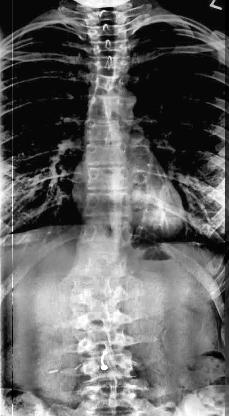Vertebrae: (69, 294, 135, 328), (67, 244, 131, 278), (81, 349, 141, 385), (70, 324, 134, 356), (76, 214, 134, 248), (81, 186, 135, 219), (67, 270, 128, 298), (84, 94, 138, 122), (82, 116, 136, 144), (82, 141, 134, 169), (83, 164, 135, 192), (89, 71, 131, 93), (90, 52, 130, 72), (87, 38, 131, 56)
